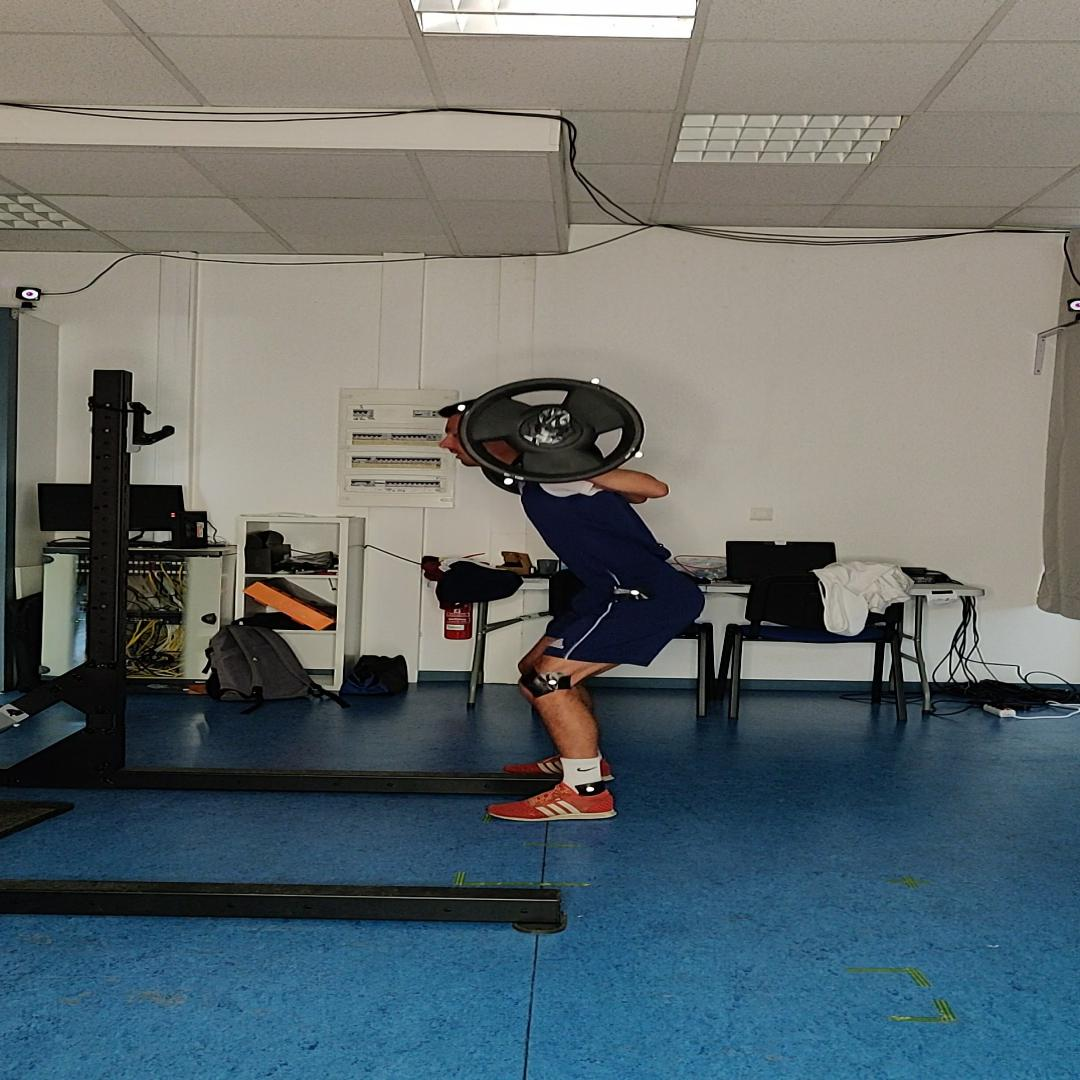Bar: (538, 408, 570, 426)
Barbell: (458, 378, 645, 484)
